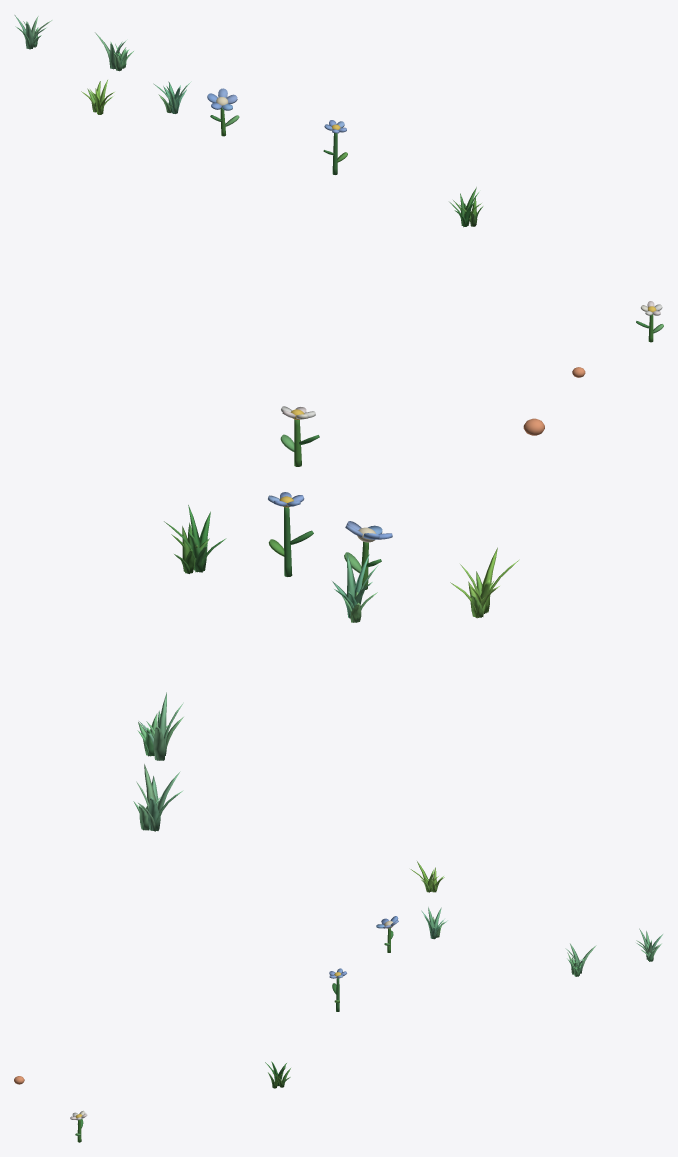
File: W1_FloraRing_7_8.fbx
3 renders of one model, top to bottom at view 1: azimuth 30°, elevation 25°; view 2: azimuth 150°, elevation 25°; view 3: azimuth 270°, elevation 25°, orthographic. The views are drawn at different scales.
Parts seen in each view (by area): view 1: W1_FloraRing_7_8; view 2: W1_FloraRing_7_8; view 3: W1_FloraRing_7_8.
Boxes of the visible parts, box(x1,y1,x2,y2) form: W1_FloraRing_7_8: box(14, 15, 663, 377); W1_FloraRing_7_8: box(133, 406, 544, 831); W1_FloraRing_7_8: box(14, 861, 662, 1142).
Size of the model in its own units: 1.42 by 0.6809 by 2.76.
